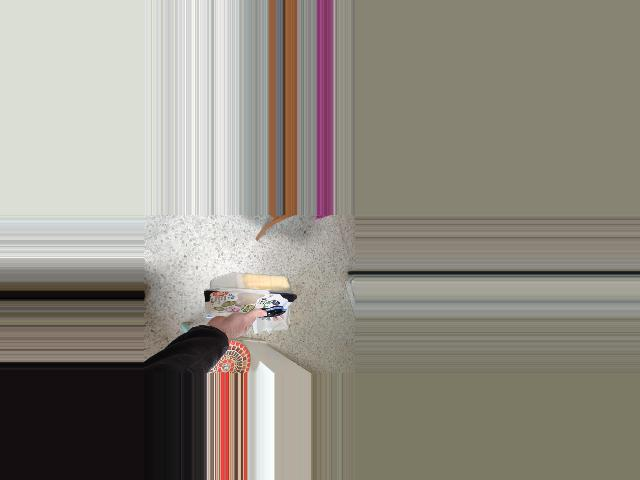cheese: (193, 249, 300, 340)
